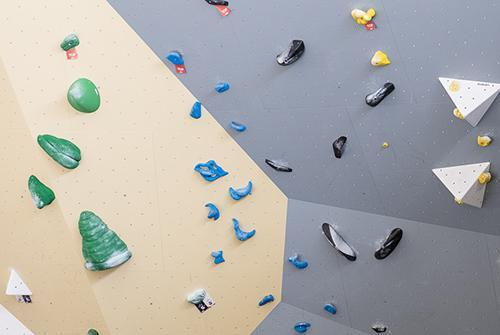hold: (78, 211, 132, 272), (37, 134, 82, 169), (321, 223, 357, 262), (67, 78, 100, 113), (28, 175, 55, 210), (374, 228, 403, 260), (275, 39, 305, 66), (365, 82, 395, 107), (194, 160, 229, 181), (231, 217, 256, 241), (351, 8, 376, 25), (265, 159, 293, 172), (332, 135, 347, 159), (60, 34, 80, 51), (288, 253, 308, 269), (371, 50, 390, 66), (187, 289, 206, 304), (235, 181, 252, 197), (205, 203, 220, 221), (165, 51, 184, 65), (190, 101, 201, 119), (211, 250, 225, 264), (258, 294, 274, 306), (230, 121, 246, 132), (294, 322, 311, 332), (371, 323, 388, 333), (477, 135, 491, 147), (478, 172, 492, 184), (215, 82, 230, 93), (229, 187, 241, 200), (453, 107, 465, 120), (204, 0, 229, 5), (324, 304, 336, 314), (449, 80, 459, 92), (454, 196, 465, 204), (87, 329, 100, 335), (383, 141, 388, 147)
volume: (437, 76, 500, 127), (431, 162, 490, 209), (5, 269, 33, 295)
